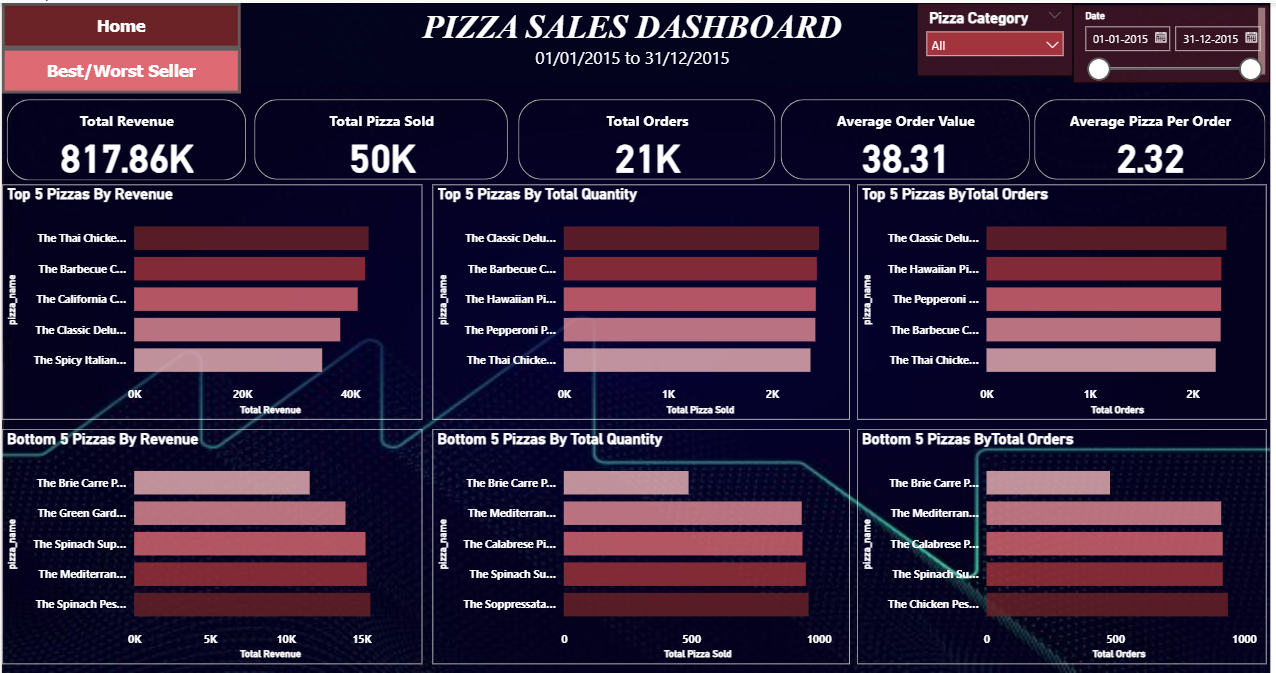

What the dashboard file says about the page in this screenshot:
{"tool":"powerbi","page":{"name":"Best/Worst Seller","canvas":[1420,750],"ordinal":1},"visuals":[{"type":"textbox","box":[0,0,1419.4,89.7],"z":0},{"type":"actionButton","box":[0,0,267.1,50.7],"z":1000},{"type":"actionButton","title":"Best /Worst Seller","box":[0,50.7,267.1,50.7],"z":2000},{"type":"cardVisual","fields":{"Data":["Table_1.Total Revenue"]},"box":[0,102.9,278.3,101.2],"z":5000},{"type":"cardVisual","fields":{"Data":["Table_1.Total Pizza Sold"]},"box":[277.7,101.8,294.9,100],"z":6000},{"type":"cardVisual","fields":{"Data":["Table_1.Total Orders"]},"box":[572.6,101.8,298.4,100],"z":7000},{"type":"cardVisual","fields":{"Data":["Table_1.Average Order Value"]},"box":[867.5,101.8,289.8,100],"z":8000},{"type":"cardVisual","fields":{"Data":["Table_1.Average Pizza Per Order"]},"box":[1150.4,101.8,269.1,100],"z":9000},{"type":"barChart","title":"Top 5 Pizzas By Revenue","fields":{"Category":["Table_1.pizza_name"],"Y":["Table_1.Total Revenue"]},"box":[0,203.8,470.6,263.4],"z":10000},{"type":"barChart","title":"Top 5 Pizzas By Total Quantity","fields":{"Category":["Table_1.pizza_name"],"Y":["Table_1.Total Pizza Sold"]},"box":[482.2,203.8,467.2,263.4],"z":11000},{"type":"barChart","title":"Top 5 Pizzas ByTotal Orders","fields":{"Category":["Table_1.pizza_name"],"Y":["Table_1.Total Orders"]},"box":[957.7,203.8,459,263.4],"z":12000},{"type":"barChart","title":"Bottom 5 Pizzas By Revenue","fields":{"Category":["Table_1.pizza_name"],"Y":["Table_1.Total Revenue"]},"box":[0,477.2,470.6,263.4],"z":13000},{"type":"barChart","title":"Bottom 5 Pizzas By Total Quantity","fields":{"Category":["Table_1.pizza_name"],"Y":["Table_1.Total Pizza Sold"]},"box":[482.2,477.2,467.2,263.4],"z":14000},{"type":"barChart","title":"Bottom 5 Pizzas ByTotal Orders","fields":{"Category":["Table_1.pizza_name"],"Y":["Table_1.Total Orders"]},"box":[957.7,477.2,459,263.4],"z":15000},{"type":"slicer","fields":{"Values":["Table_1.pizza_category"]},"box":[1024.7,0,174.7,82.3],"z":15001},{"type":"slicer","fields":{"Values":["Table_1.order_date"]},"box":[1199.1,1.5,220.9,87.8],"z":15002}]}

Visuals, with their boxes in screenshot pixels (x1, y1, x2, y2), scaled from the page's 1420x750 canvas onto the 1276x673 screenshot:
textbox: <box>0,0,1275,80</box>
actionButton: <box>0,0,240,45</box>
"Best /Worst Seller" actionButton: <box>0,45,240,91</box>
cardVisual - Table_1.Total Revenue: <box>0,92,250,183</box>
cardVisual - Table_1.Total Pizza Sold: <box>250,91,515,181</box>
cardVisual - Table_1.Total Orders: <box>515,91,783,181</box>
cardVisual - Table_1.Average Order Value: <box>780,91,1040,181</box>
cardVisual - Table_1.Average Pizza Per Order: <box>1034,91,1275,181</box>
"Top 5 Pizzas By Revenue" barChart: <box>0,183,423,419</box>
"Top 5 Pizzas By Total Quantity" barChart: <box>433,183,853,419</box>
"Top 5 Pizzas ByTotal Orders" barChart: <box>861,183,1273,419</box>
"Bottom 5 Pizzas By Revenue" barChart: <box>0,428,423,665</box>
"Bottom 5 Pizzas By Total Quantity" barChart: <box>433,428,853,665</box>
"Bottom 5 Pizzas ByTotal Orders" barChart: <box>861,428,1273,665</box>
slicer - Table_1.pizza_category: <box>921,0,1078,74</box>
slicer - Table_1.order_date: <box>1078,1,1275,80</box>
